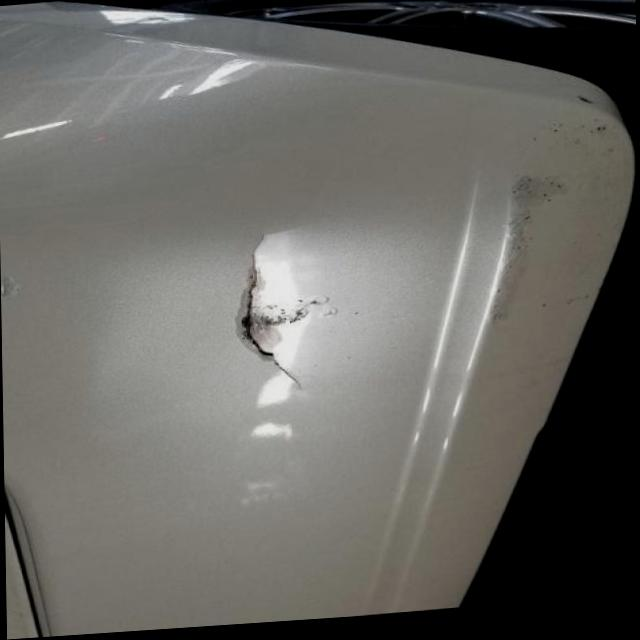Crack: (230, 227, 339, 396)
